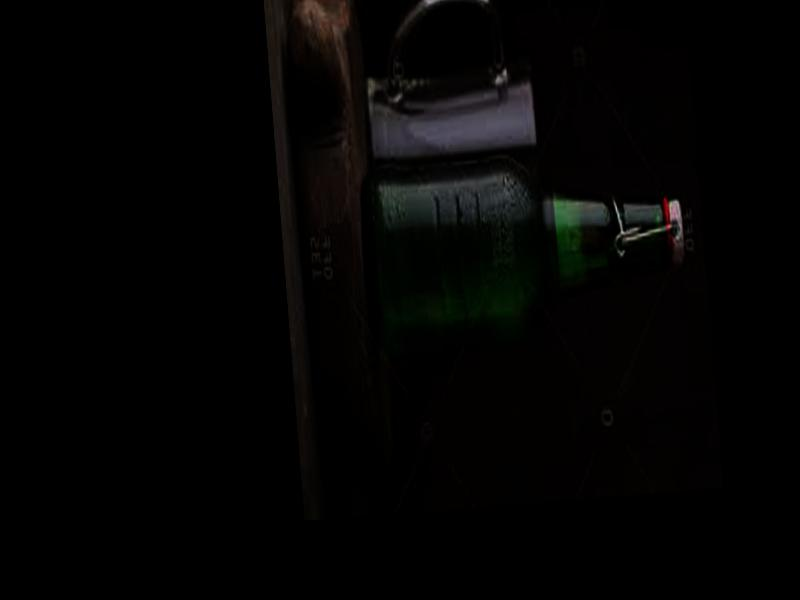Beer: (358, 147, 690, 349)
